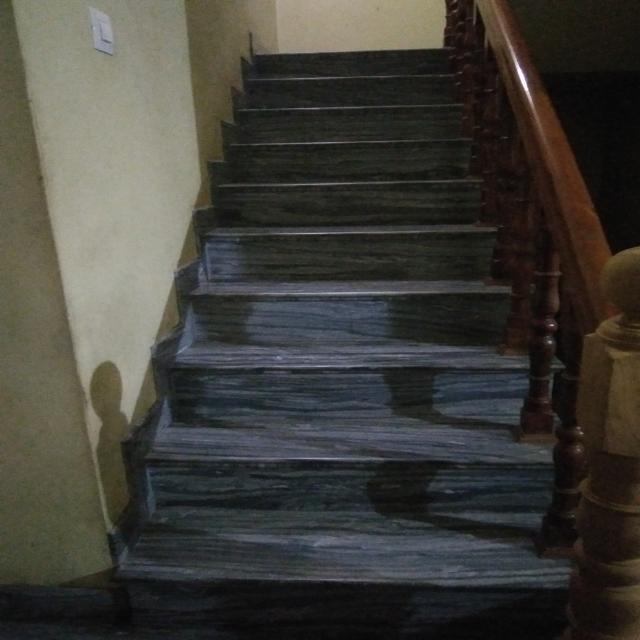Stairs: (105, 47, 588, 591)
